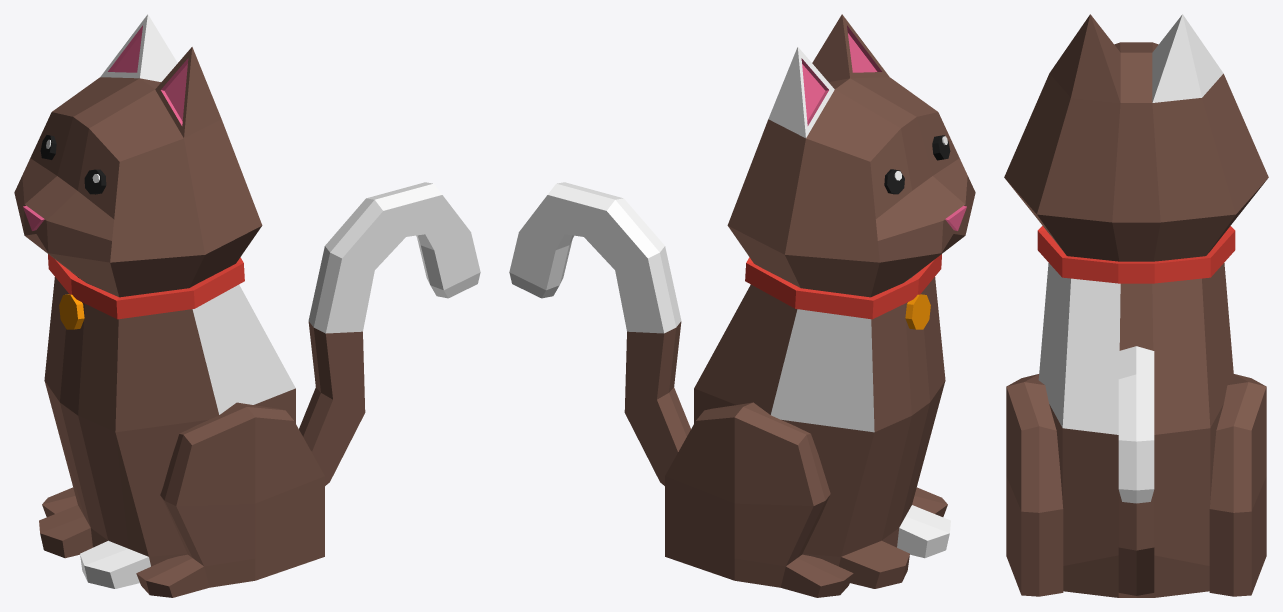
Rendered from Cat_01.obj.
The picture shows the model from 3 angles, left to right: view 1: azimuth 30°, elevation 25°; view 2: azimuth 150°, elevation 25°; view 3: azimuth 270°, elevation 25°; orthographic projection. The views are drawn at different scales.
Parts seen in each view (by area): view 1: Cube.004; view 2: Cube.004; view 3: Cube.004.
Boxes of the visible parts, bbox=[...] form: Cube.004: bbox=[14, 14, 480, 597]; Cube.004: bbox=[509, 14, 975, 597]; Cube.004: bbox=[1004, 14, 1268, 597].
Bounding box in the file's own units: 175 × 193 × 87.04.
